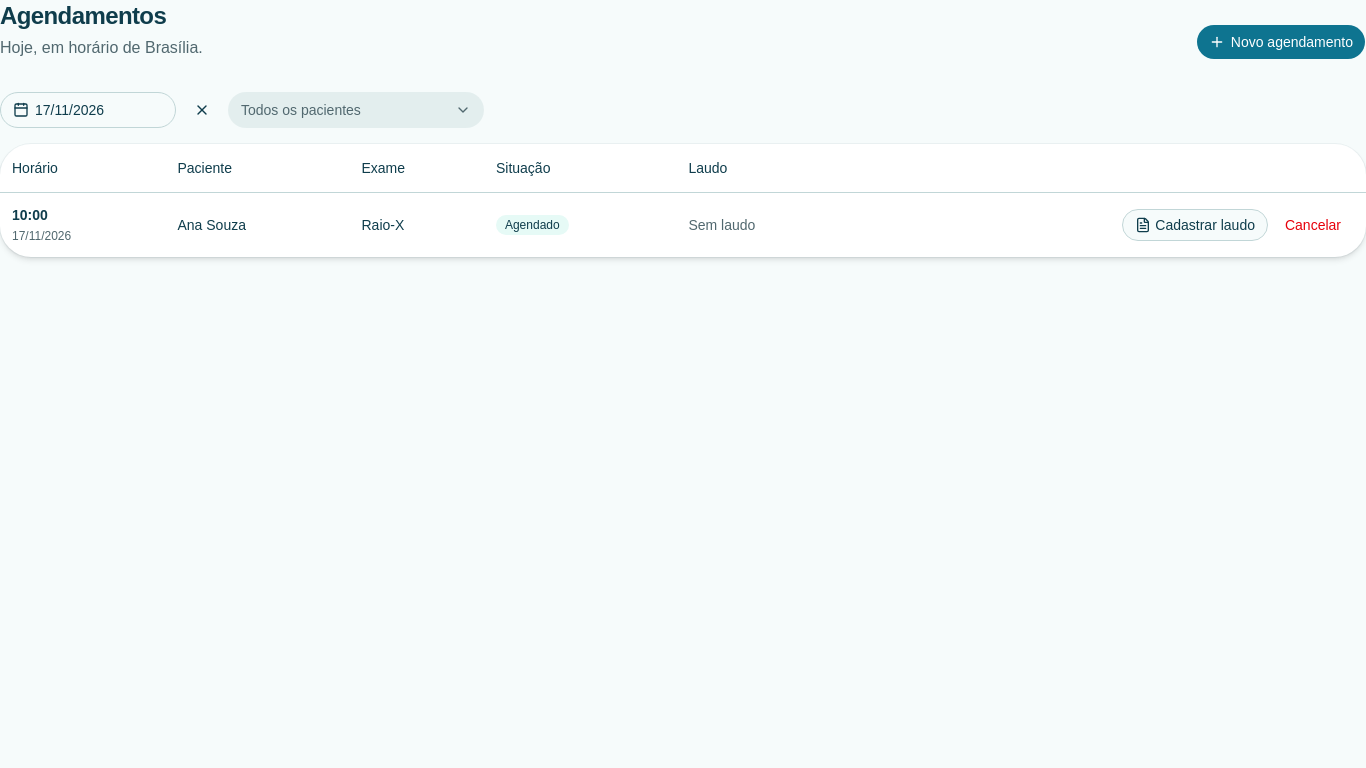
Test: AppointmentsPage › cancels an appointment after confirmation and refreshes the list
Click the button "Cancelar" at (1313, 224), box [1272, 208, 1354, 240]
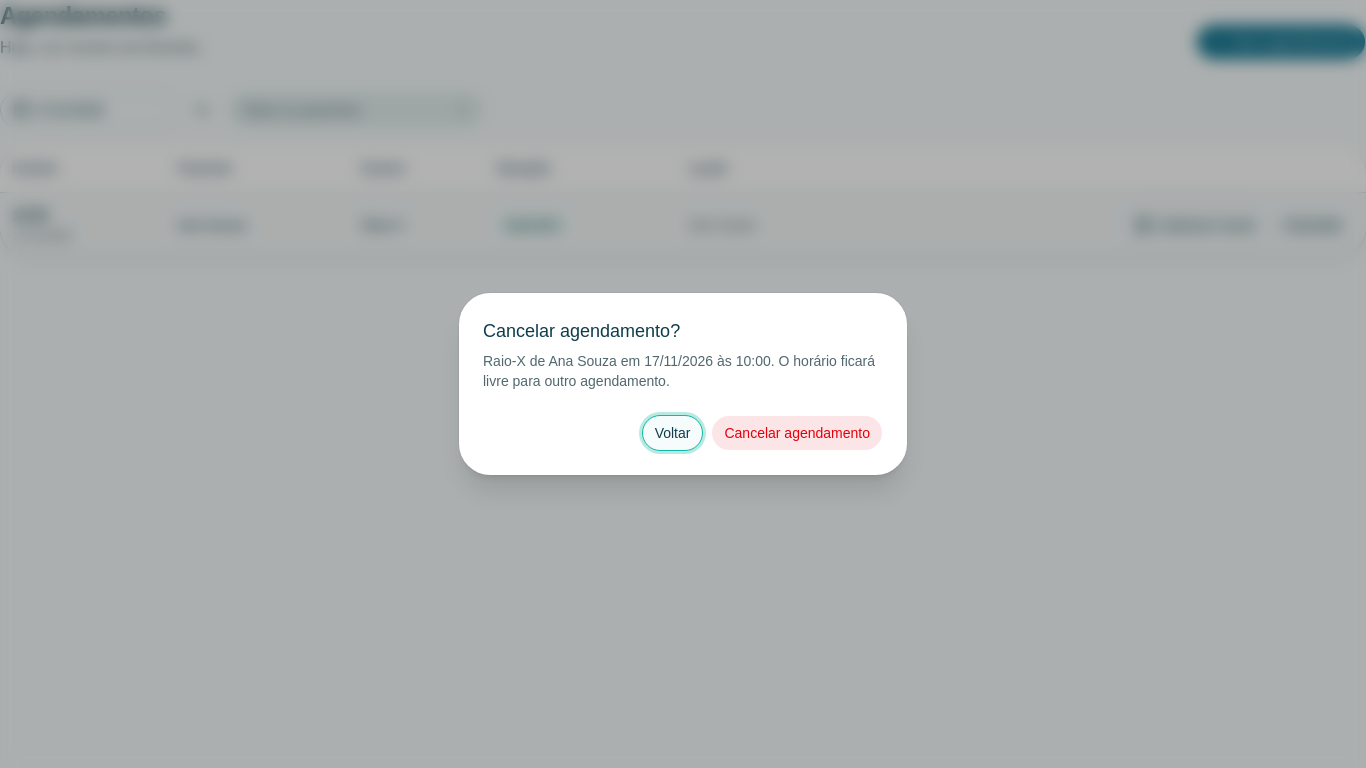
Click the button "Cancelar agendamento" at (797, 433), box [712, 415, 883, 451]
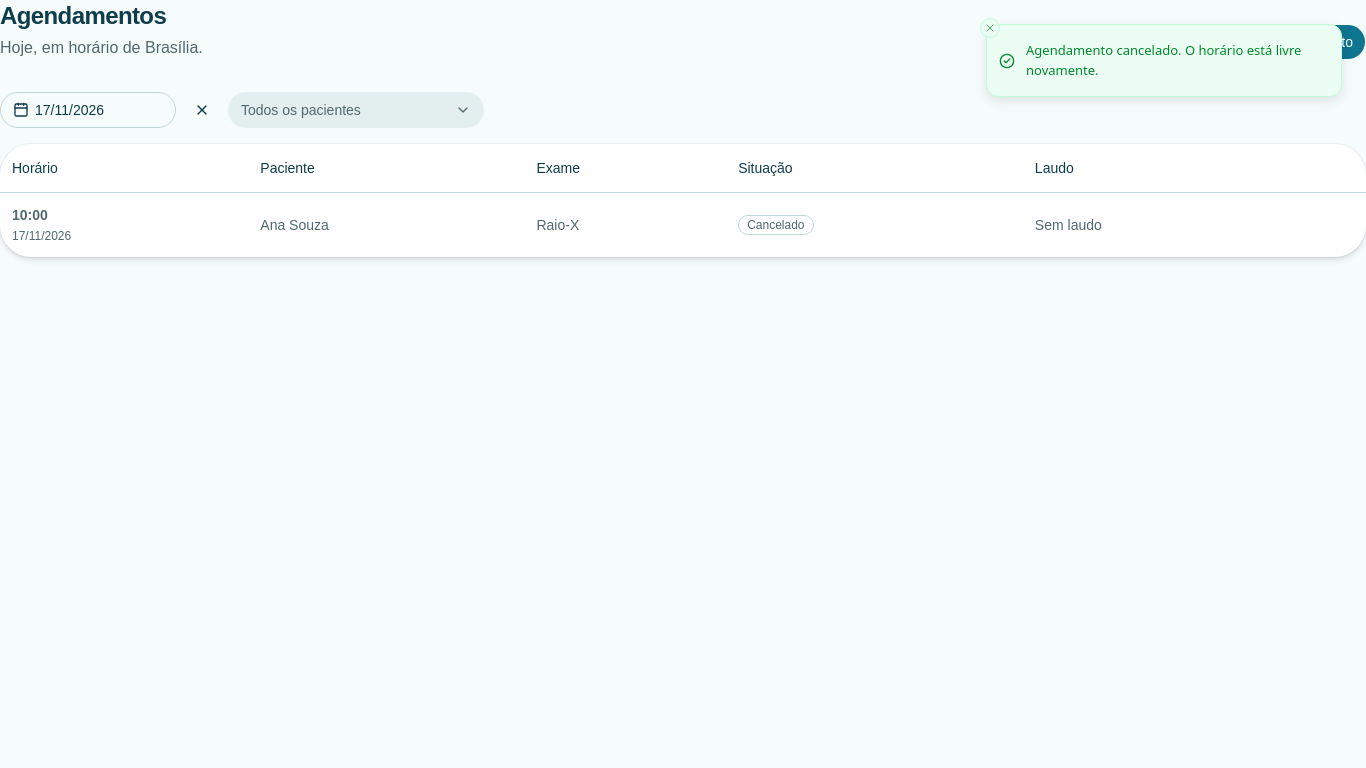
Check: the text "Cancelado" is shown, box [738, 215, 814, 235]
